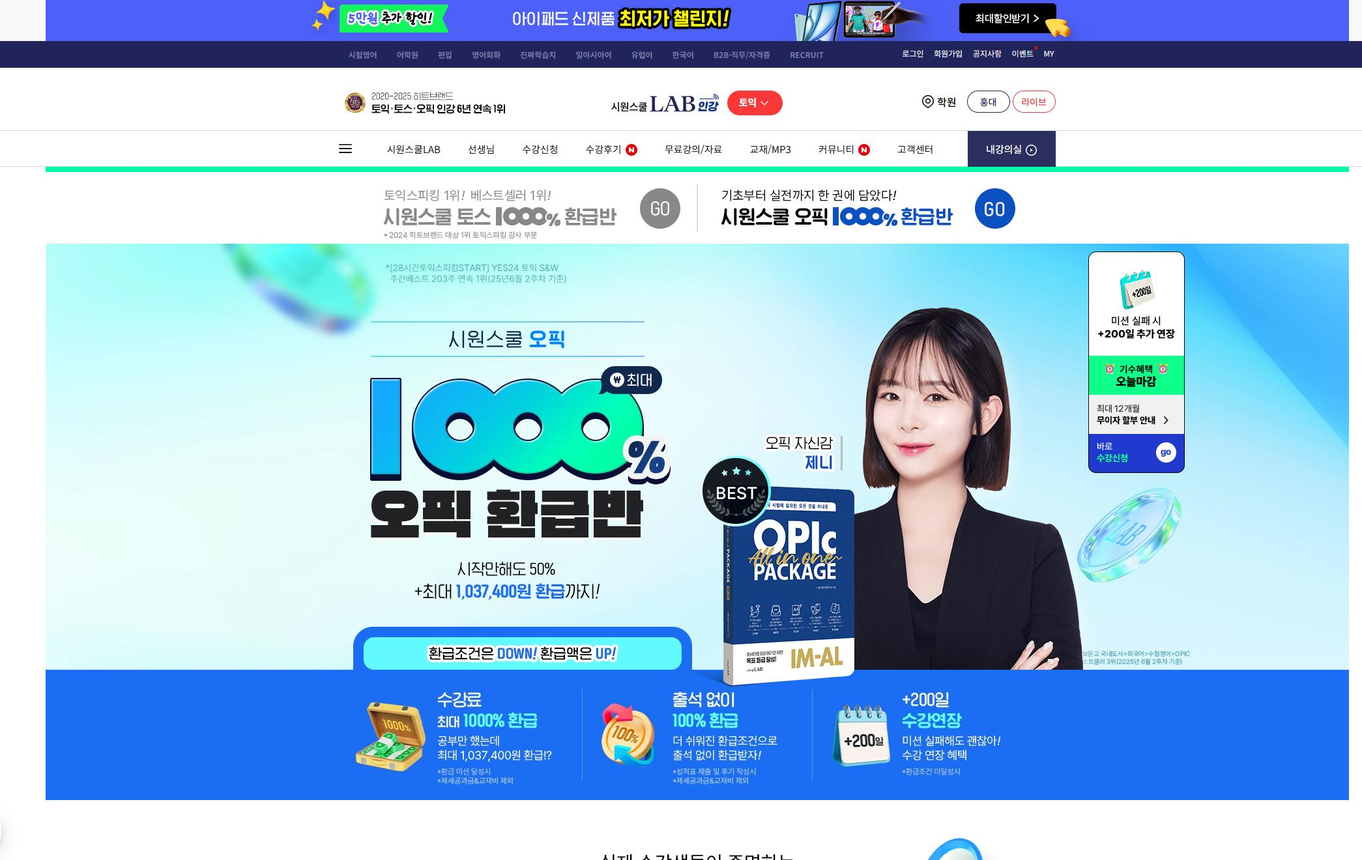button: (603, 82, 719, 124), (957, 1, 1070, 36), (968, 129, 1057, 168), (1092, 392, 1178, 432), (1091, 435, 1181, 472), (383, 134, 448, 161), (663, 137, 731, 161), (810, 136, 869, 163), (707, 42, 776, 65), (581, 137, 644, 160), (459, 135, 509, 162), (893, 134, 941, 160), (748, 138, 797, 162), (1014, 88, 1056, 115), (783, 43, 832, 66), (515, 140, 566, 162), (515, 43, 560, 66), (571, 43, 616, 66), (967, 90, 1010, 114), (341, 44, 384, 67), (665, 42, 703, 66), (468, 43, 506, 66), (623, 42, 661, 65), (392, 43, 425, 67), (428, 43, 460, 66), (333, 135, 358, 159), (971, 46, 1005, 62), (932, 45, 965, 61), (899, 44, 928, 62), (1009, 46, 1039, 61), (1043, 45, 1064, 62)
checkbox: (728, 89, 783, 118)
popup: (47, 238, 1348, 799), (44, 0, 1351, 41), (1084, 246, 1190, 479), (705, 171, 1033, 243), (372, 173, 694, 241), (338, 80, 520, 126)
